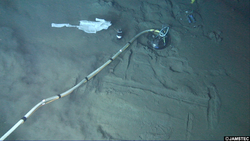plastic bag: (48, 17, 113, 35)
